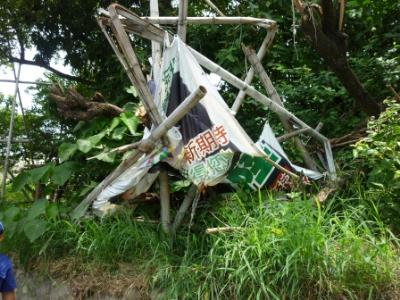plastic_bag: (91, 29, 268, 219)
